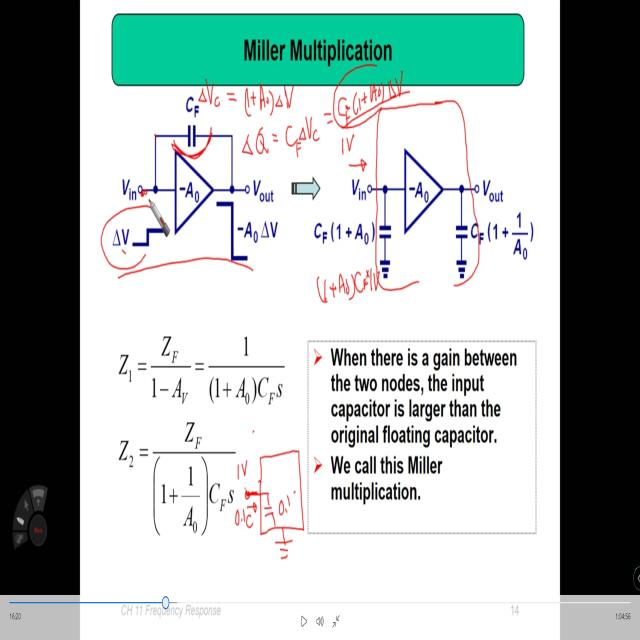panseo: (187, 68, 416, 166), (217, 438, 319, 576), (299, 255, 395, 316)
